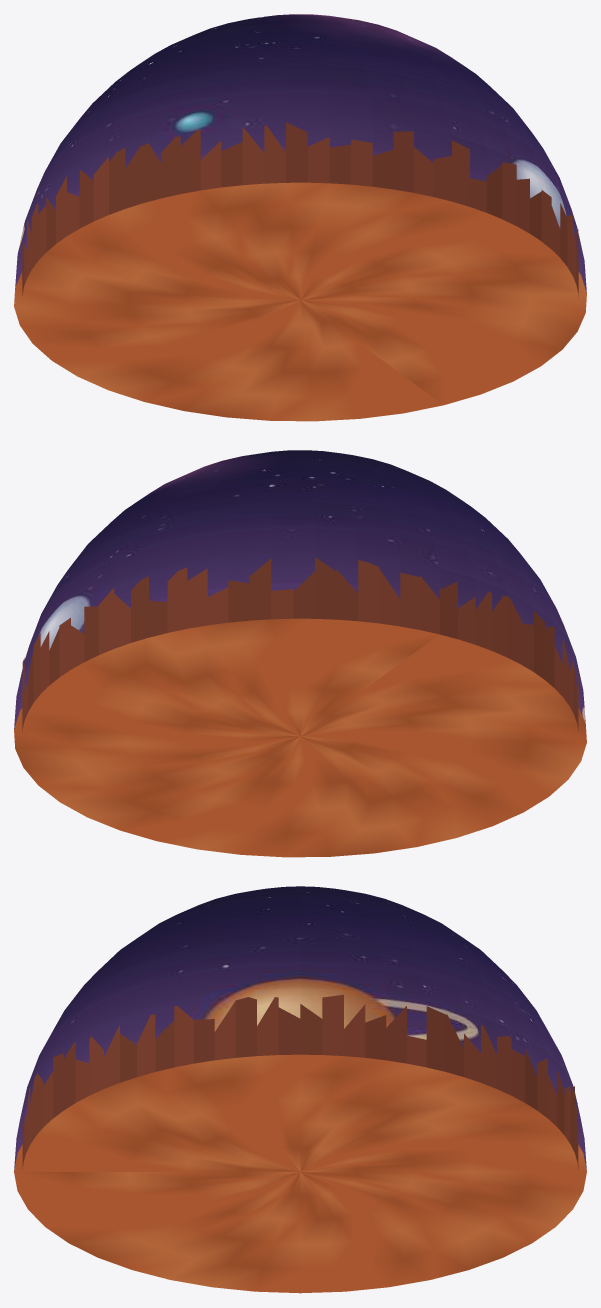
File: elsewhere.glb
3 views of the same model, one above another, from view 1: azimuth 30°, elevation 25°; view 2: azimuth 150°, elevation 25°; view 3: azimuth 270°, elevation 25° (orthographic).
Visible parts, largest first — view 1: elsewhere; view 2: elsewhere; view 3: elsewhere.
Part boxes in pixels (<box>): elsewhere: <box>14,14,586,421</box>; elsewhere: <box>14,450,586,857</box>; elsewhere: <box>14,886,586,1293</box>.
Bounding box in the file's own units: 9.6 × 4.8 × 9.6.
Materials: 1 (1 with a texture image).
